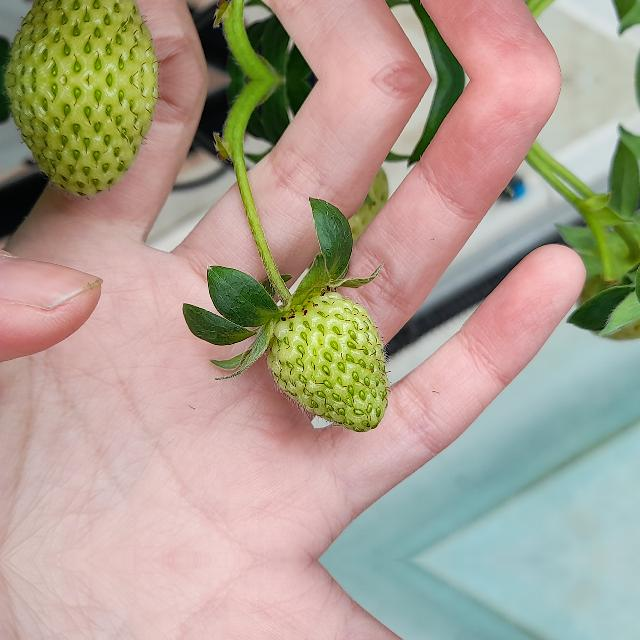Health_25: (0, 80, 158, 208), (266, 290, 389, 432), (0, 0, 158, 80)
